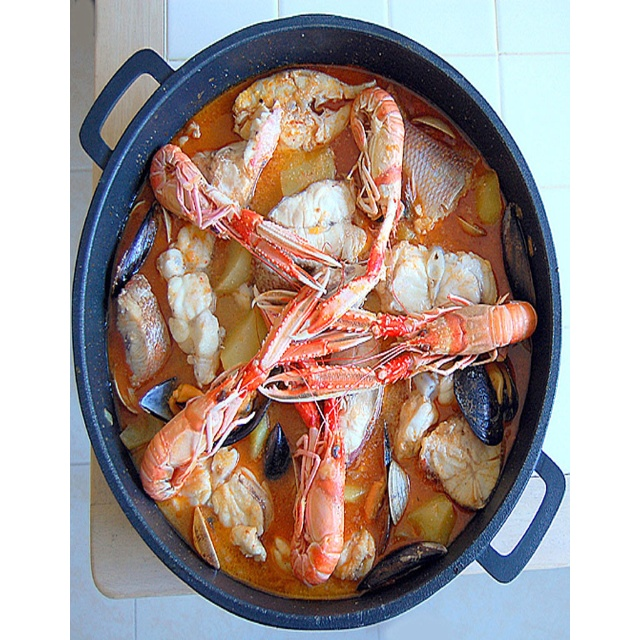Shrimp: (141, 86, 542, 585)
